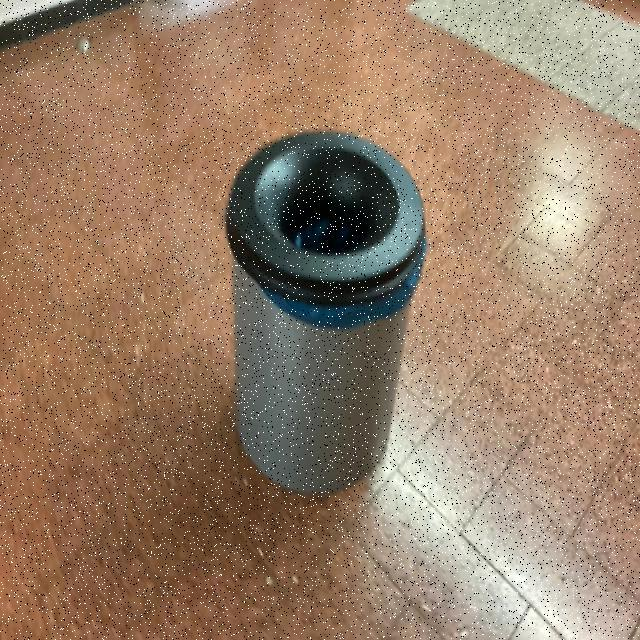garbage container: (212, 110, 438, 507)
